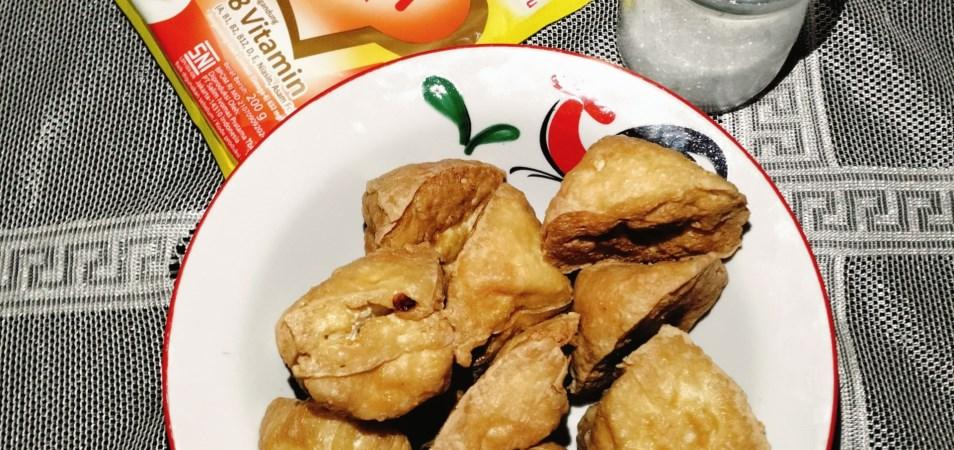kacang_legume: (312, 288, 422, 397), (576, 164, 692, 249), (477, 344, 564, 433), (468, 213, 534, 302), (636, 376, 717, 445), (373, 176, 460, 239)
